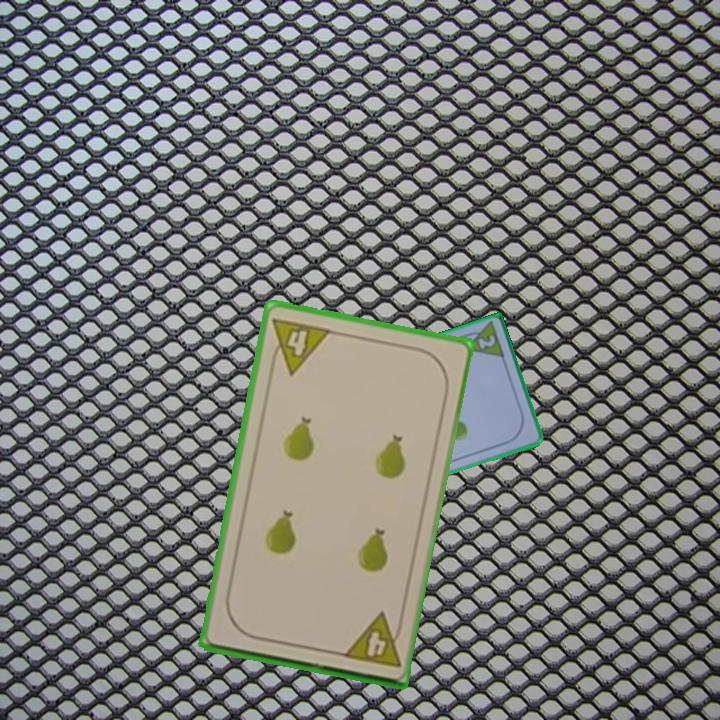2p: (474, 332, 498, 352)
4p: (265, 313, 334, 378), (338, 609, 406, 671)
